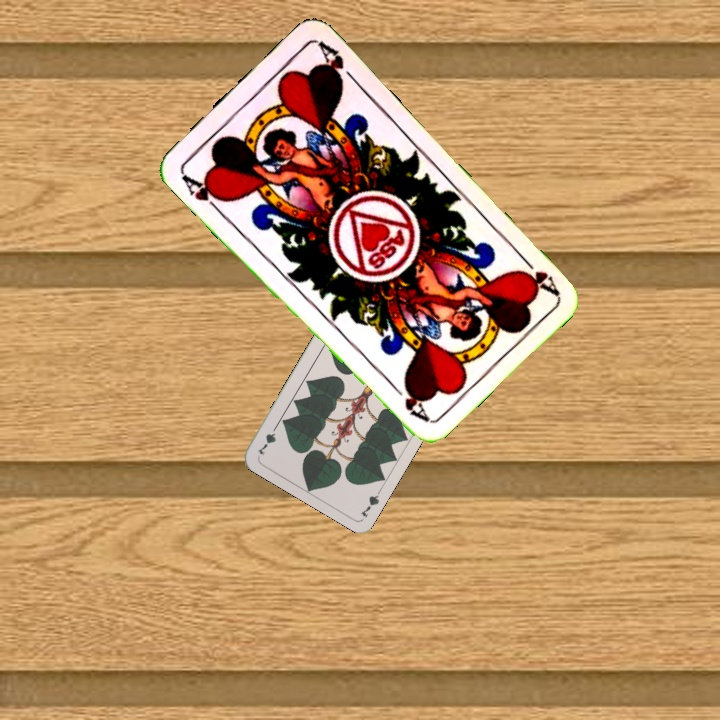G7: (356, 483, 386, 520)
HA: (177, 169, 229, 216), (514, 249, 561, 297)
